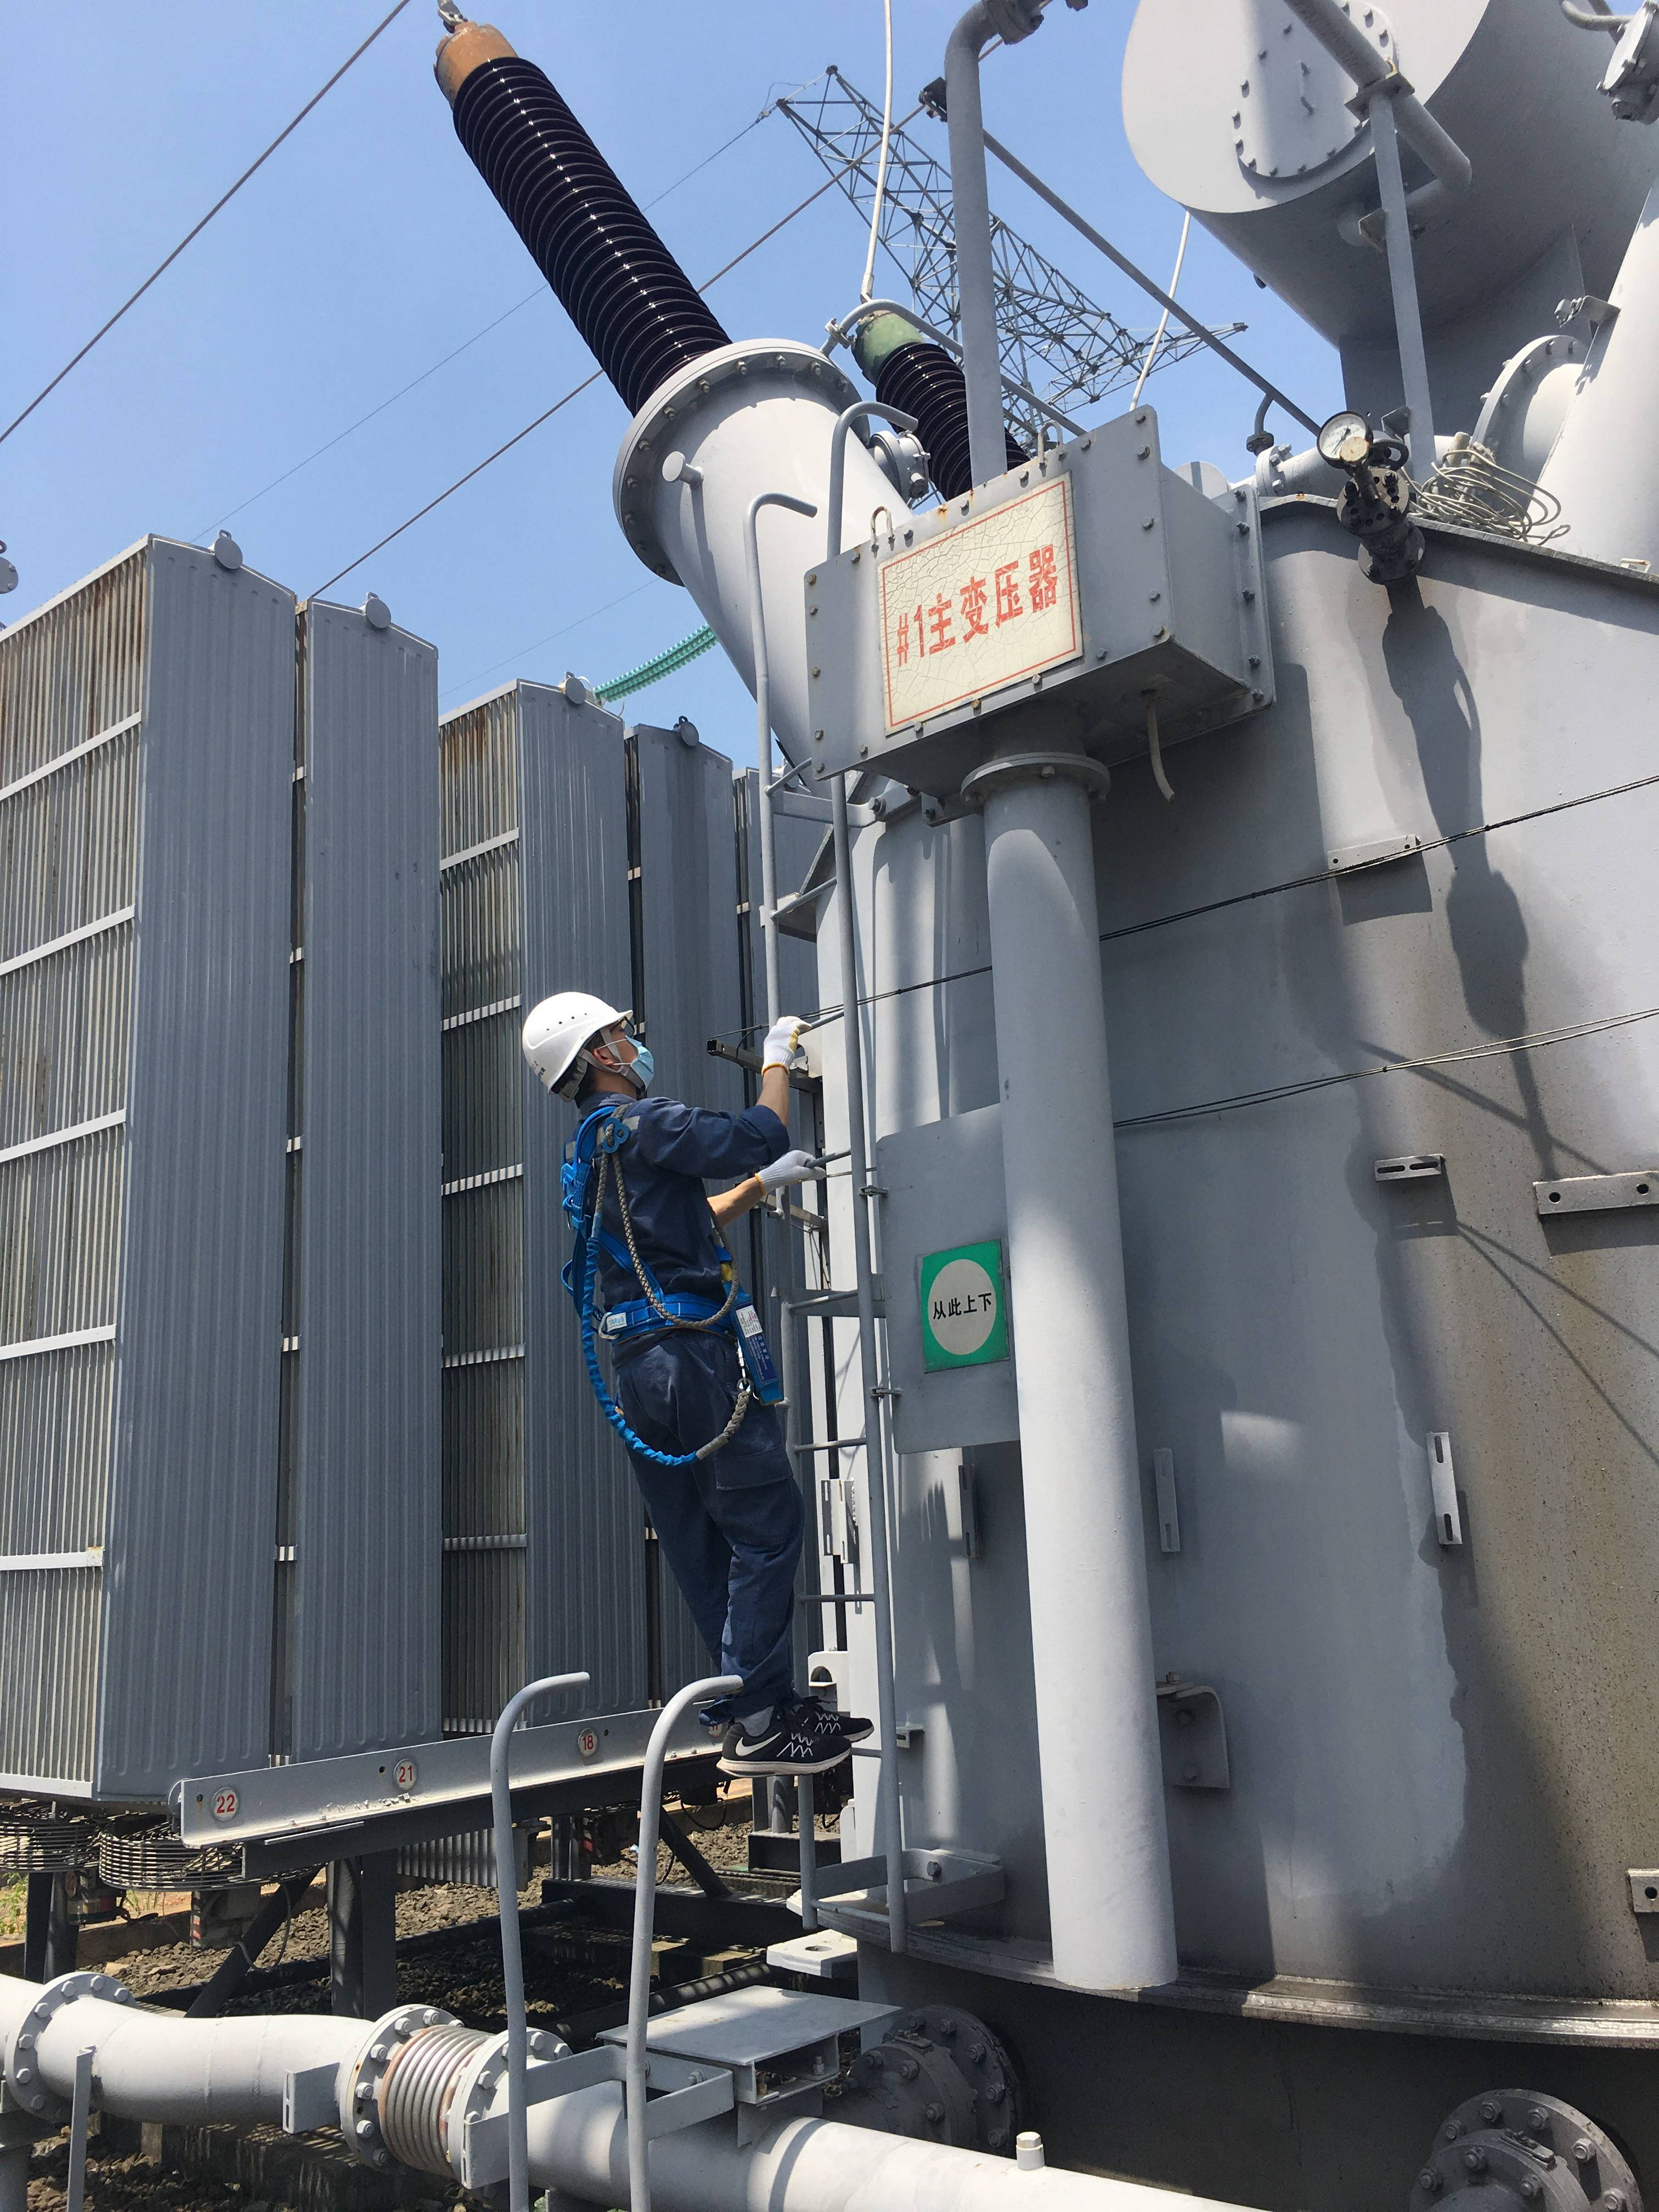downsuit: (620, 1355, 810, 1702)
upsuit: (565, 1104, 798, 1346)
wrongtop: (755, 1062, 796, 1136)
